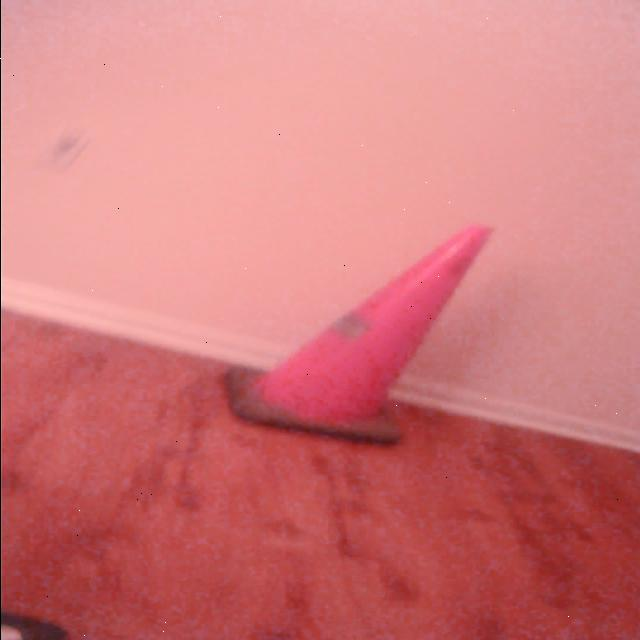traffic cone: (218, 219, 502, 449)
